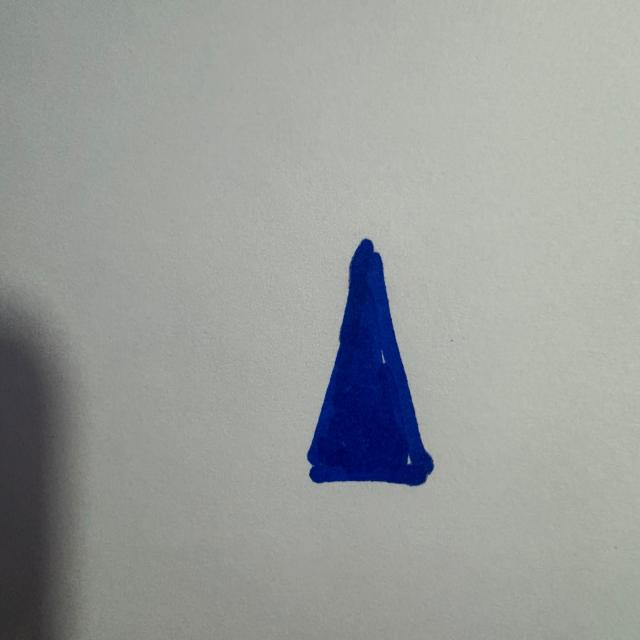Triangle: (307, 239, 433, 485)
